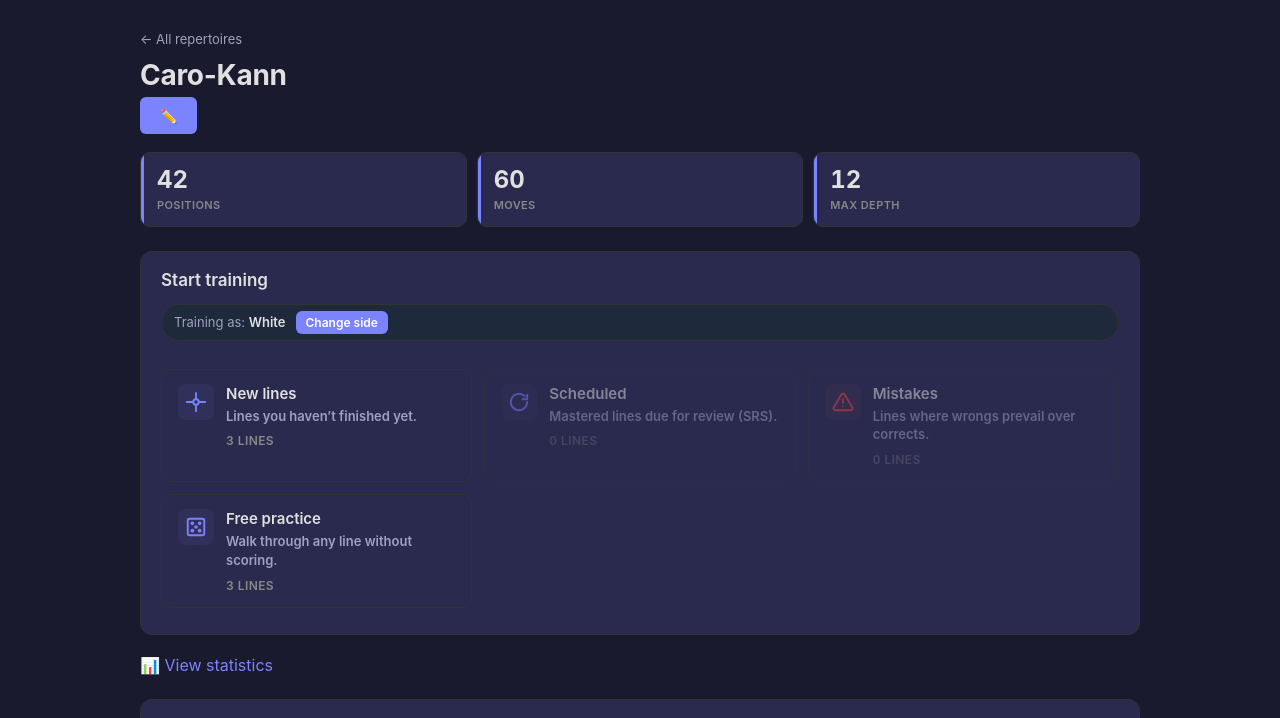
Test: OpeningTrainerDetailPage › KS-3482: клик по заголовку → input + Save → PATCH с новым title, header обновлён
The image size is (1280, 718).
Click the heading with test id "opening-trainer-detail-title" at (213, 75), box [140,58,287,92]
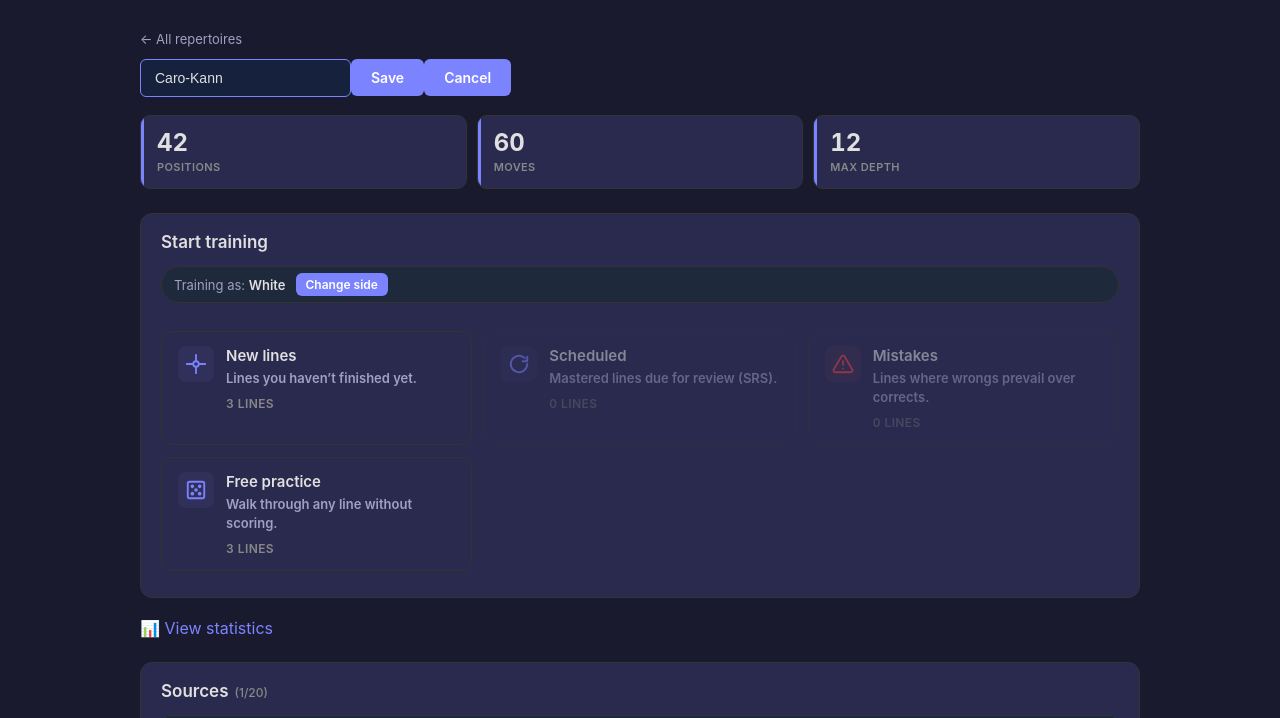
Check: the field with test id "opening-trainer-detail-title-input" holds "Caro-Kann"
Replace the text in the field with test id "opening-trainer-detail-title-input" with "New title" at (246, 78), box [140,59,351,97]
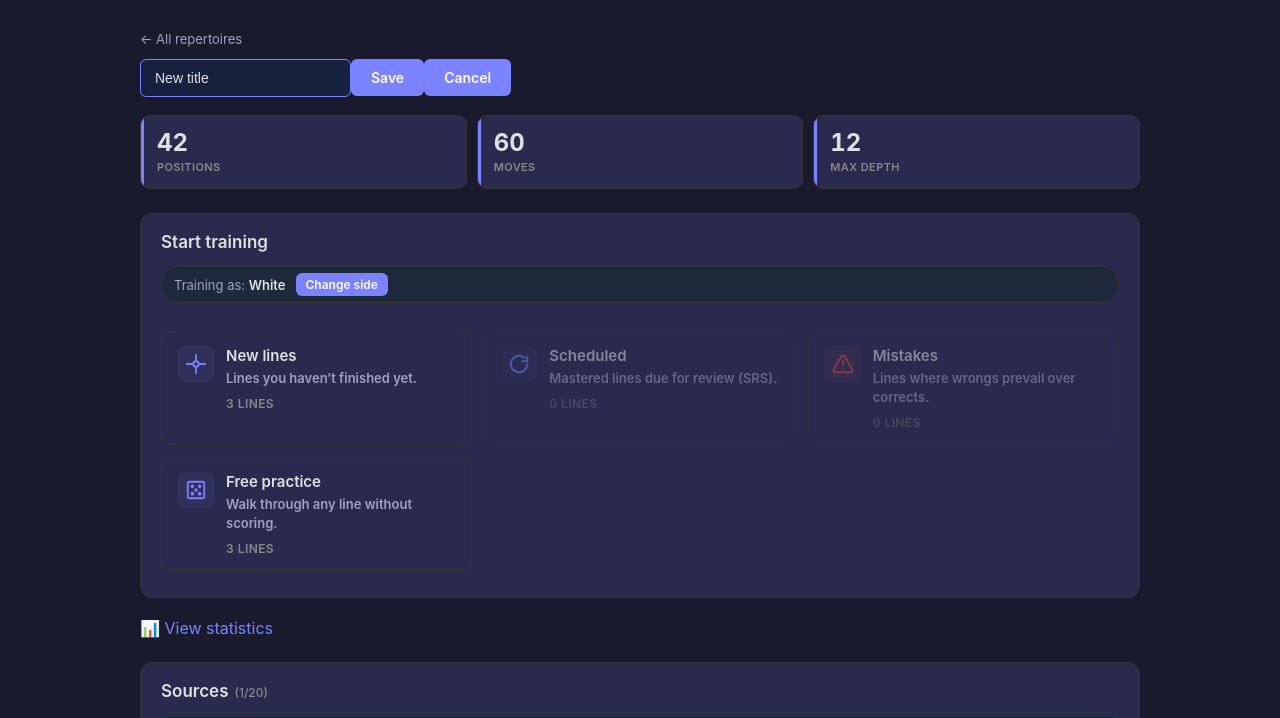
Click the button with test id "opening-trainer-detail-title-save" at (388, 78), box [351,59,424,96]
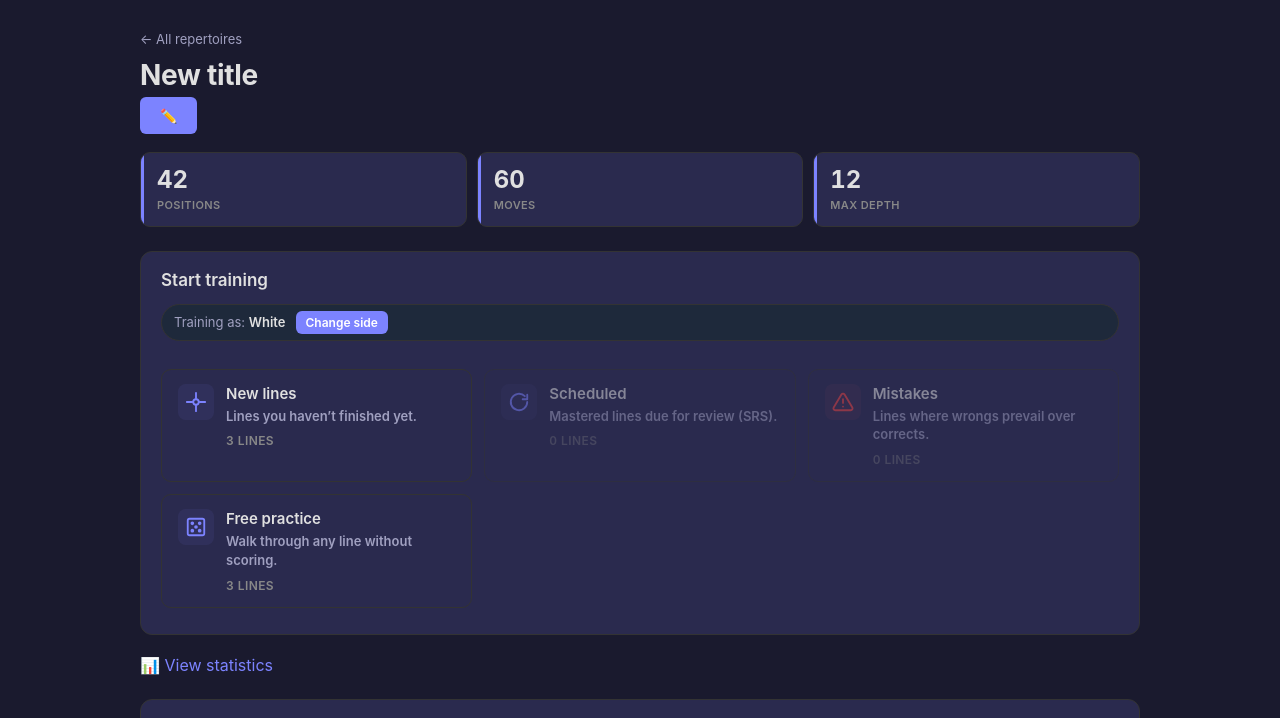
Check: the heading with test id "opening-trainer-detail-title" reads "New title", box [140,58,258,92]
Check: the field with test id "opening-trainer-detail-title-input" is gone
